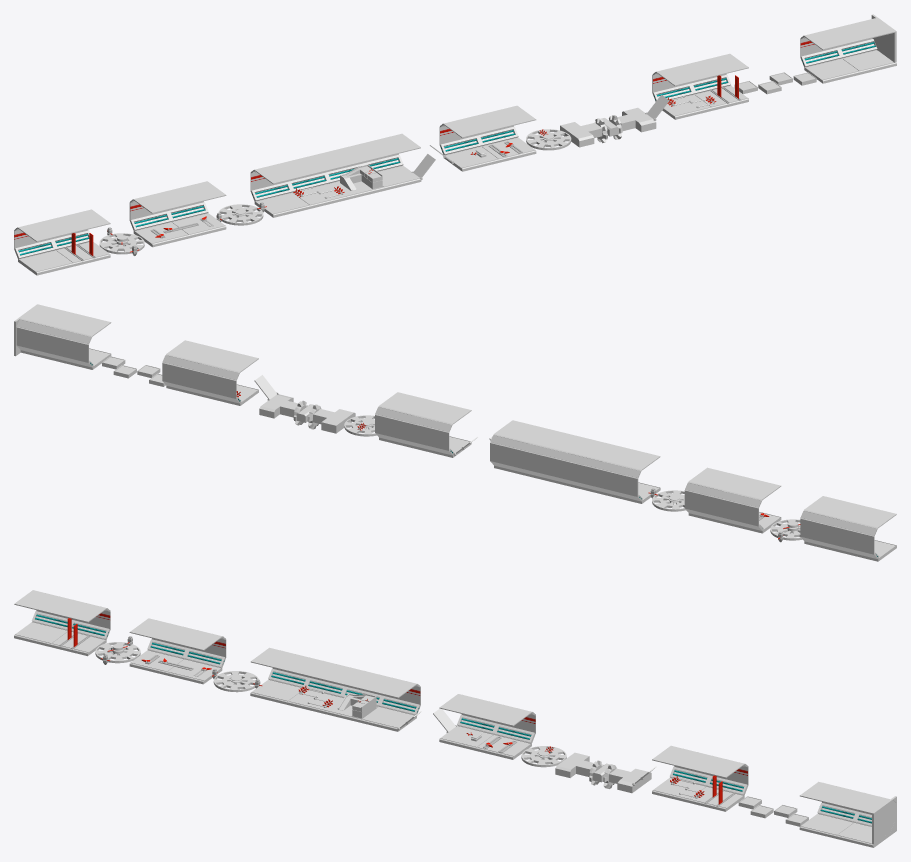
File: STAGE3.fbx
The picture shows the model from 3 angles, top to bottom: view 1: azimuth 30°, elevation 25°; view 2: azimuth 150°, elevation 25°; view 3: azimuth 330°, elevation 25°; orthographic projection.
Parts seen in each view (by area): view 1: Cube.053, Cube.022, Cube.012, Cube, Cube.034, Cube.047, Cube.025, Cylinder.012, Cylinder.006, Cylinder, Cube.028, Cube.035 (+1 smaller); view 2: Cube, Cube.047, Cube.034, Cube.022, Cube.012, Cube.053, Cube.025, Cube.035, Cube.040, grass, grass.001, grass.002 (+7 smaller); view 3: Cube, Cube.012, Cube.034, Cube.047, Cube.022, Cube.025, Cube.053, Cube.061, Cylinder.006, Cylinder.012, Cylinder, Cube.040 (+2 smaller).
Part boxes in pixels (x1,y1,x2,y2): Cube.053: [800, 17, 896, 83]; Cube.022: [250, 151, 347, 217]; Cube.012: [129, 181, 226, 247]; Cube: [14, 209, 110, 275]; Cube.034: [439, 105, 536, 171]; Cube.047: [652, 53, 748, 119]; Cube.025: [325, 133, 421, 199]; Cylinder.012: [526, 129, 571, 150]; Cylinder.006: [218, 204, 263, 225]; Cylinder: [99, 233, 144, 254]; Cube.028: [340, 164, 382, 190]; Cube.035: [560, 122, 602, 147]; Cube: [800, 496, 896, 561]; Cube.047: [162, 340, 258, 405]; Cube.034: [375, 392, 471, 457]; Cube.022: [564, 438, 660, 503]; Cube.012: [684, 467, 781, 533]; Cube.053: [16, 304, 111, 369]; Cube.025: [490, 420, 586, 485]; Cube.035: [313, 409, 355, 433]; Cube.040: [259, 394, 297, 418]; grass: [800, 511, 877, 535]; grass.001: [685, 482, 761, 507]; grass.002: [564, 453, 640, 478]; Cube: [14, 590, 110, 656]; Cube.012: [129, 618, 226, 684]; Cube.034: [439, 694, 535, 759]; Cube.047: [652, 745, 748, 811]; Cube.022: [250, 647, 346, 713]; Cube.025: [324, 665, 420, 731]; Cube.053: [799, 781, 896, 847]; Cube.061: [872, 796, 896, 847]; Cylinder.006: [213, 671, 258, 692]; Cylinder.012: [521, 746, 566, 767]; Cylinder: [95, 642, 140, 663]; Cube.040: [609, 768, 651, 793].
Bounding box in the file's own units: 116373 × 6158 × 6671.
